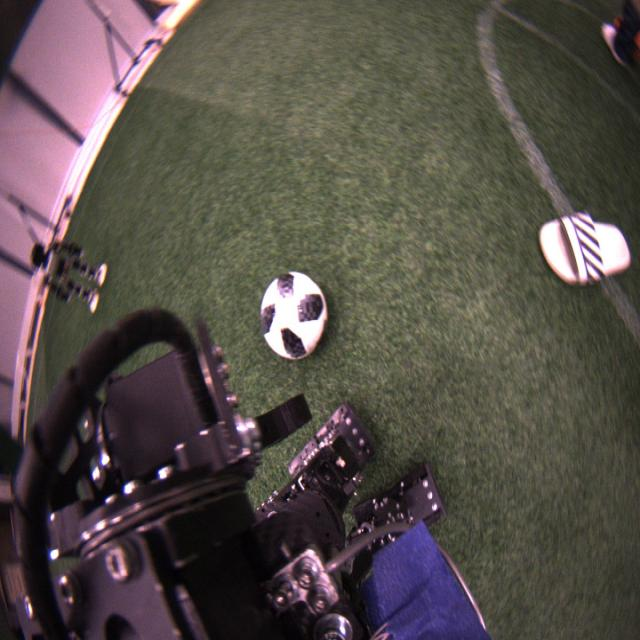ball: (260, 271, 328, 362)
